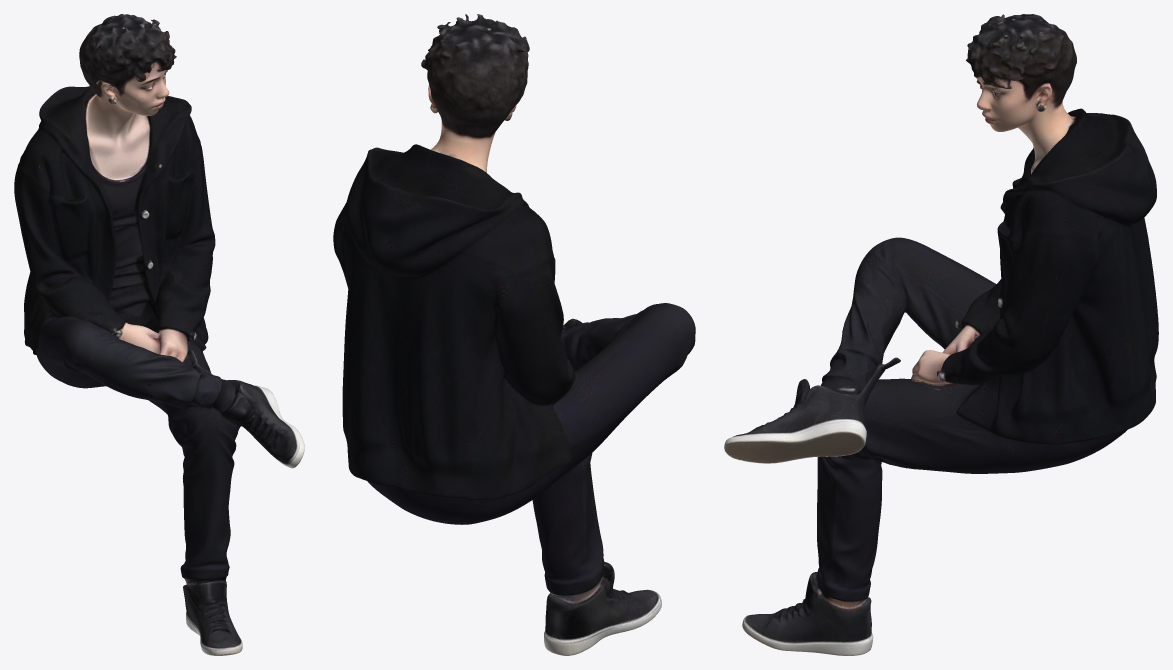
The model's file is sitBlack.glb.
3 renders of one model, left to right at view 1: azimuth 30°, elevation 25°; view 2: azimuth 150°, elevation 25°; view 3: azimuth 270°, elevation 25°, orthographic. The views are drawn at different scales.
Parts seen in each view (by area): view 1: Object_5, Object_6, Object_7; view 2: Object_6, Object_5, Object_7; view 3: Object_6, Object_5, Object_7.
Boxes of the visible parts, box(x1,y1,x2,y2) form: Object_5: box(14, 14, 304, 655); Object_6: box(14, 20, 215, 409); Object_7: box(46, 49, 277, 634); Object_6: box(333, 14, 678, 524); Object_5: box(340, 21, 661, 647); Object_7: box(532, 303, 695, 655); Object_6: box(929, 14, 1158, 472); Object_5: box(724, 14, 1108, 655); Object_7: box(795, 35, 980, 655).
Bounding box in the file's own units: 0.7354 × 1.9 × 1.19.
Materials: 1 (1 with a texture image).
